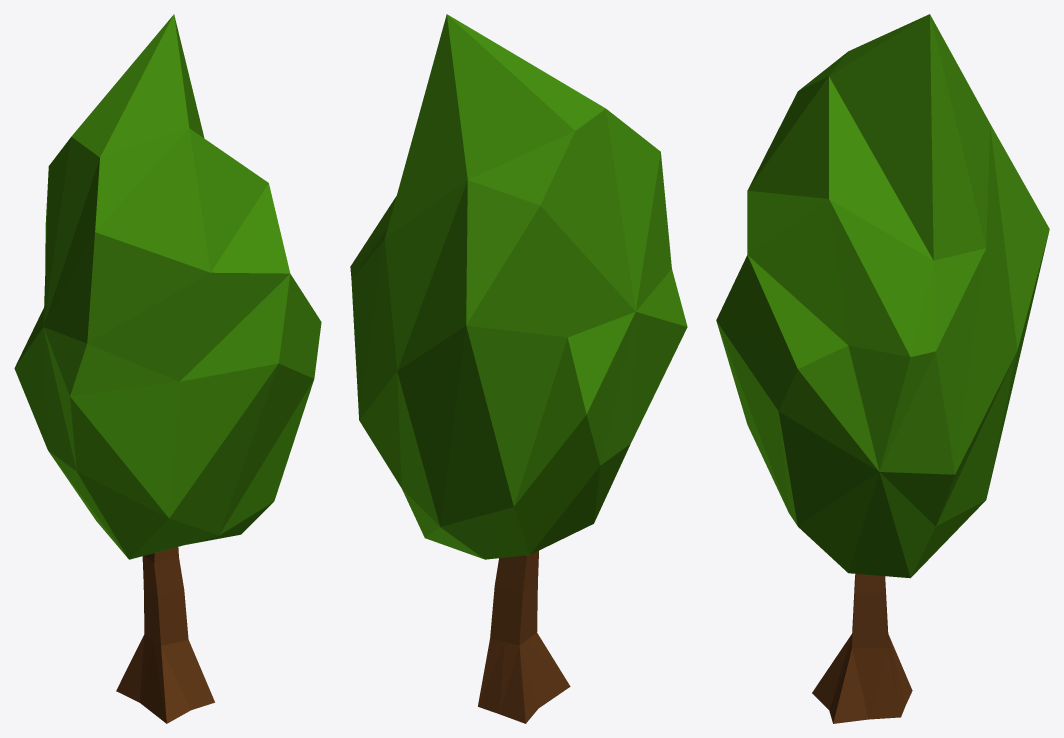
Rendered from Arbre1.2.fbx.
The picture shows the model from 3 angles, left to right: view 1: azimuth 30°, elevation 25°; view 2: azimuth 150°, elevation 25°; view 3: azimuth 270°, elevation 25°; orthographic projection. The views are drawn at different scales.
Visible parts, largest first — view 1: Sphere001; view 2: Sphere001; view 3: Sphere001.
Part boxes in pixels (x1,y1,x2,y2): Sphere001: (14, 14, 321, 723); Sphere001: (350, 14, 687, 723); Sphere001: (716, 14, 1049, 723).
Size of the model in its own units: 31.59 by 74.88 by 31.8.
